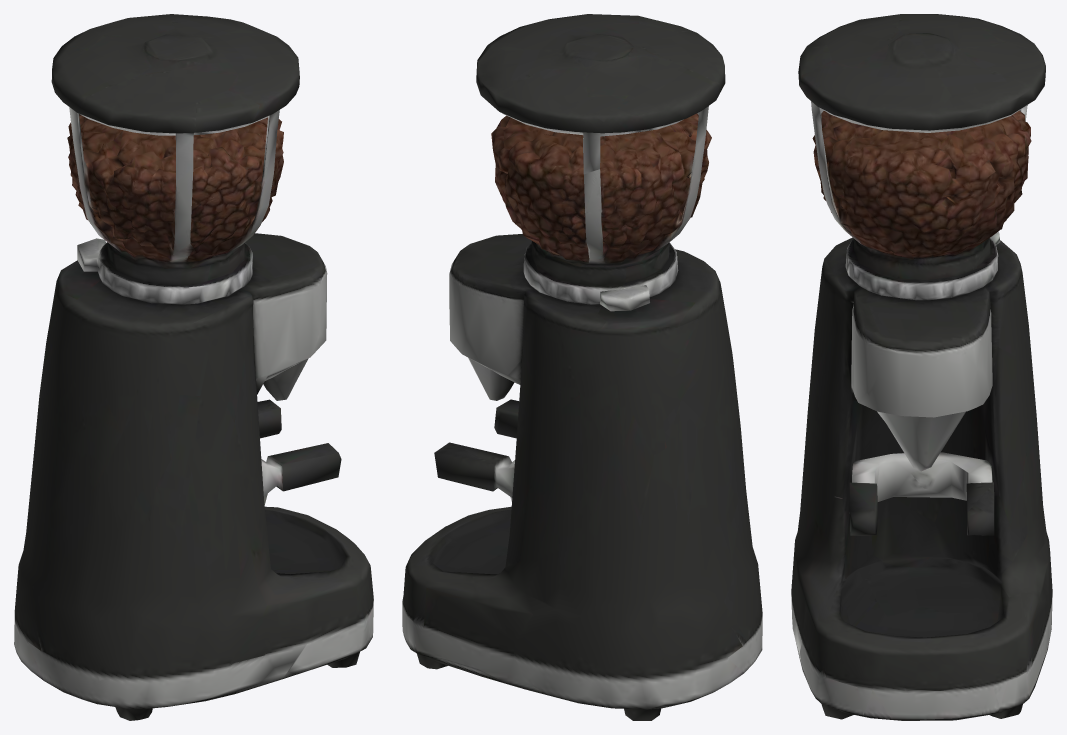
The model's file is SM_Kitchen_Grinder.glb.
3 views of the same model, side by side, from view 1: azimuth 30°, elevation 25°; view 2: azimuth 150°, elevation 25°; view 3: azimuth 270°, elevation 25° (orthographic).
Parts seen in each view (by area): view 1: tripo_node_39a2051b-4252-4232-89d8-58521d7c8ab9; view 2: tripo_node_39a2051b-4252-4232-89d8-58521d7c8ab9; view 3: tripo_node_39a2051b-4252-4232-89d8-58521d7c8ab9.
Boxes of the visible parts, x1,y1,x2,y2 form: tripo_node_39a2051b-4252-4232-89d8-58521d7c8ab9: (14, 14, 373, 720); tripo_node_39a2051b-4252-4232-89d8-58521d7c8ab9: (402, 14, 762, 720); tripo_node_39a2051b-4252-4232-89d8-58521d7c8ab9: (791, 14, 1052, 720).
Size of the model in its own units: 0.5355 by 1 by 0.3903.
1 material, 1 textured.
